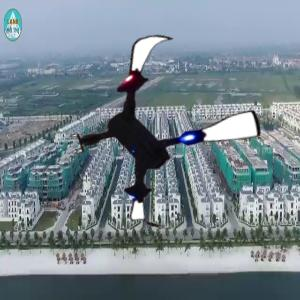drone: (67, 31, 266, 230)
